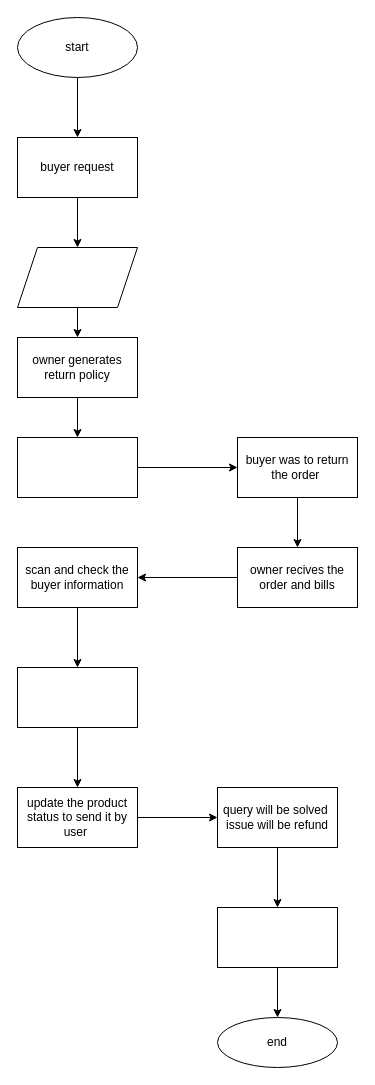
Image size: 375x1085. Some labels were removed from this diagram. The shapes that lost their labels are listed below. From the top down, each one's centre as x and y in pixels, then its label:
(77,277): shipping platform
(77,467): owner sends return policy to buyer
(77,697): and update the details about that product
(277,937): send the notification to the user or purchaser
